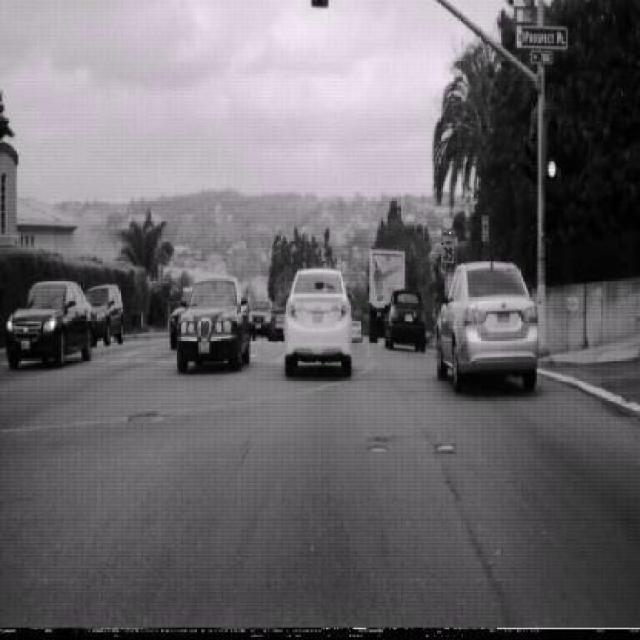speedLimit35: (440, 226, 456, 265)
